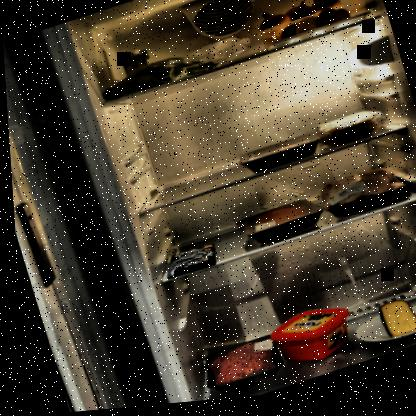beef: (228, 198, 327, 256)
butter: (258, 304, 357, 380)
cheese: (370, 299, 415, 348)
chicken: (309, 157, 415, 231), (235, 134, 325, 181)
chocolate: (155, 243, 219, 285)
eggs: (275, 6, 354, 52)
green_beans: (95, 44, 228, 108)
ground_beef: (191, 335, 285, 403)
heavy_cream: (118, 46, 159, 97)
onion: (253, 0, 349, 56)
